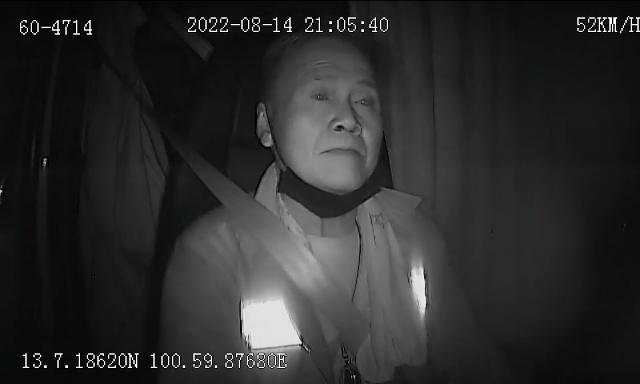SafeDriving: (306, 78, 340, 110), (346, 83, 380, 114)
Seatbelt: (164, 132, 376, 362)
